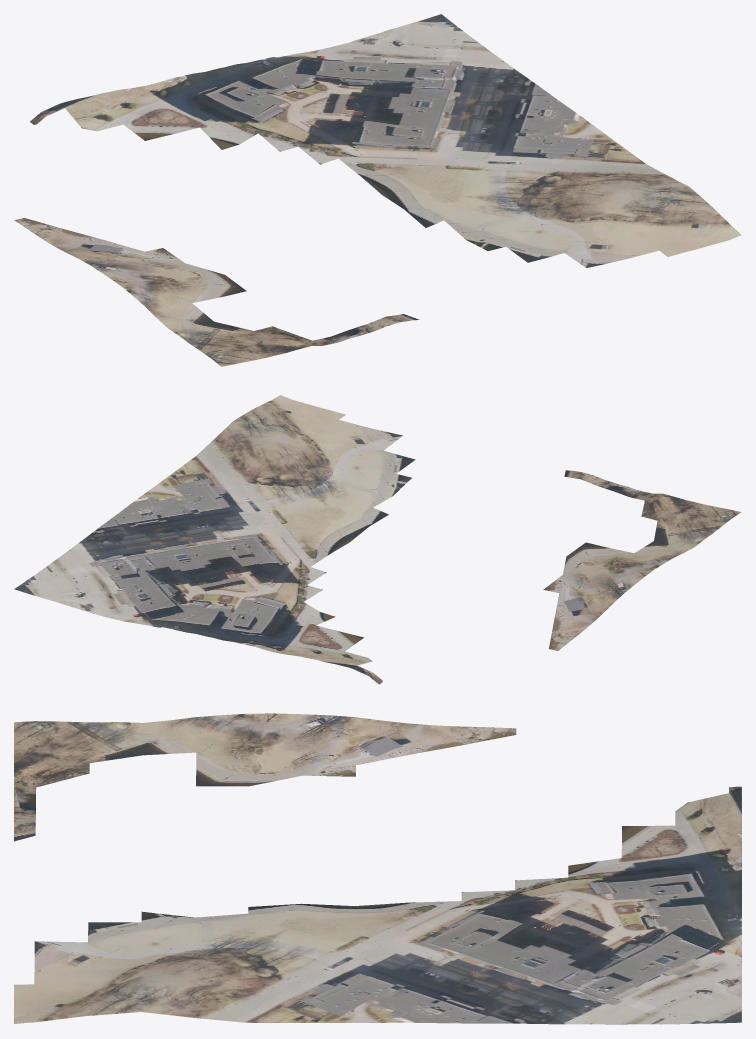
The model's file is CM_Terrain_24486978_6821636.fbx.
3 renders of one model, top to bottom at view 1: azimuth 30°, elevation 25°; view 2: azimuth 150°, elevation 25°; view 3: azimuth 270°, elevation 25°, orthographic. The views are drawn at different scales.
Visible parts, largest first — view 1: CM_Terrain_24486978_6821636_LOD0; view 2: CM_Terrain_24486978_6821636_LOD0; view 3: CM_Terrain_24486978_6821636_LOD0.
Boxes of the visible parts, bbox=[...] form: CM_Terrain_24486978_6821636_LOD0: bbox=[14, 14, 741, 366]; CM_Terrain_24486978_6821636_LOD0: bbox=[14, 395, 741, 684]; CM_Terrain_24486978_6821636_LOD0: bbox=[14, 713, 741, 1024].
Size of what is drawn, in the model's own units: 205 by 8.27 by 205.
